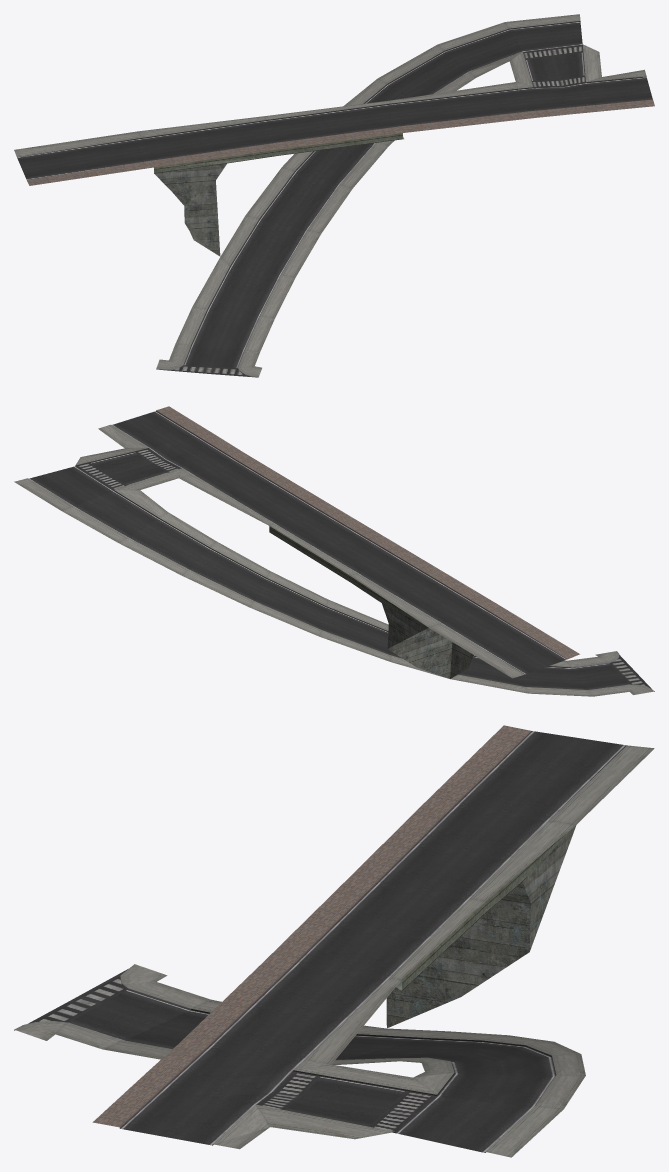
Rendered from ce_roads37.obj.
3 views of the same model, one above another, from view 1: azimuth 30°, elevation 25°; view 2: azimuth 150°, elevation 25°; view 3: azimuth 270°, elevation 25° (orthographic). The views are drawn at different scales.
Parts seen in each view (by area): view 1: CE_Roads37; view 2: CE_Roads37; view 3: CE_Roads37.
Part boxes in pixels (x1,y1,x2,y2): CE_Roads37: [14, 14, 654, 377]; CE_Roads37: [14, 406, 654, 696]; CE_Roads37: [14, 725, 654, 1157].
Bounding box in the file's own units: 139 × 37.17 × 75.85.
